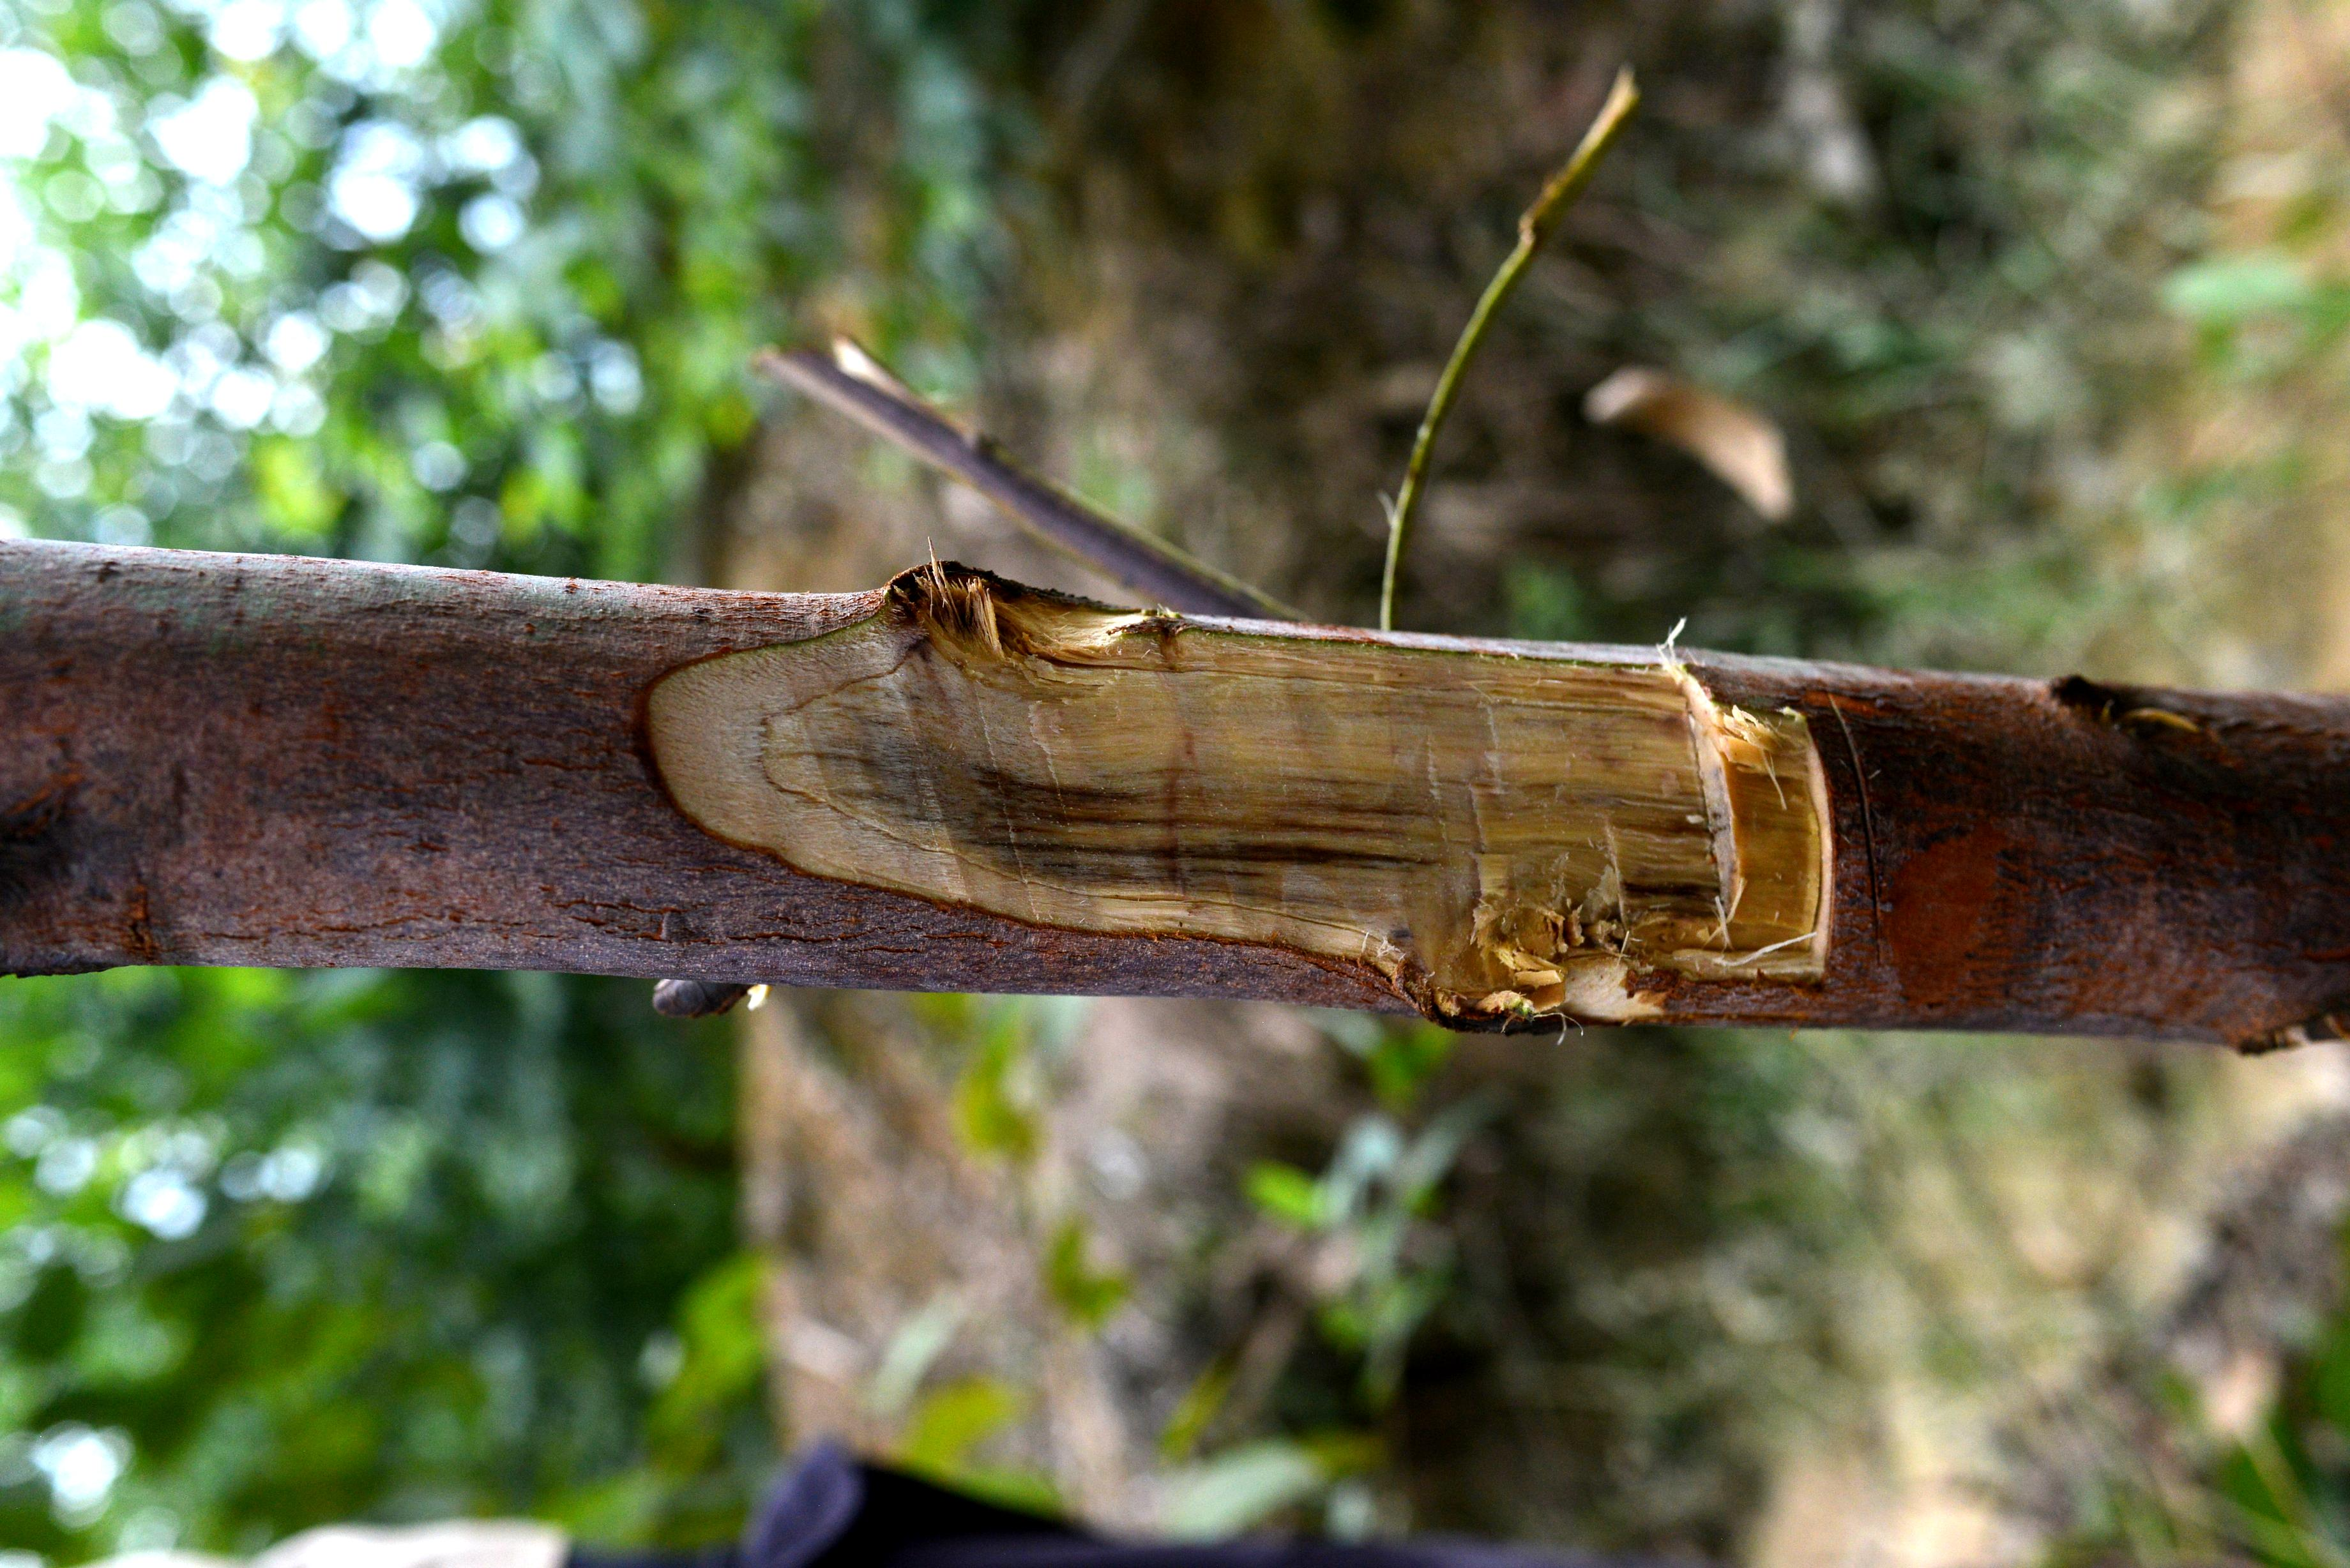Ralstonia: (630, 559, 1907, 1043)
